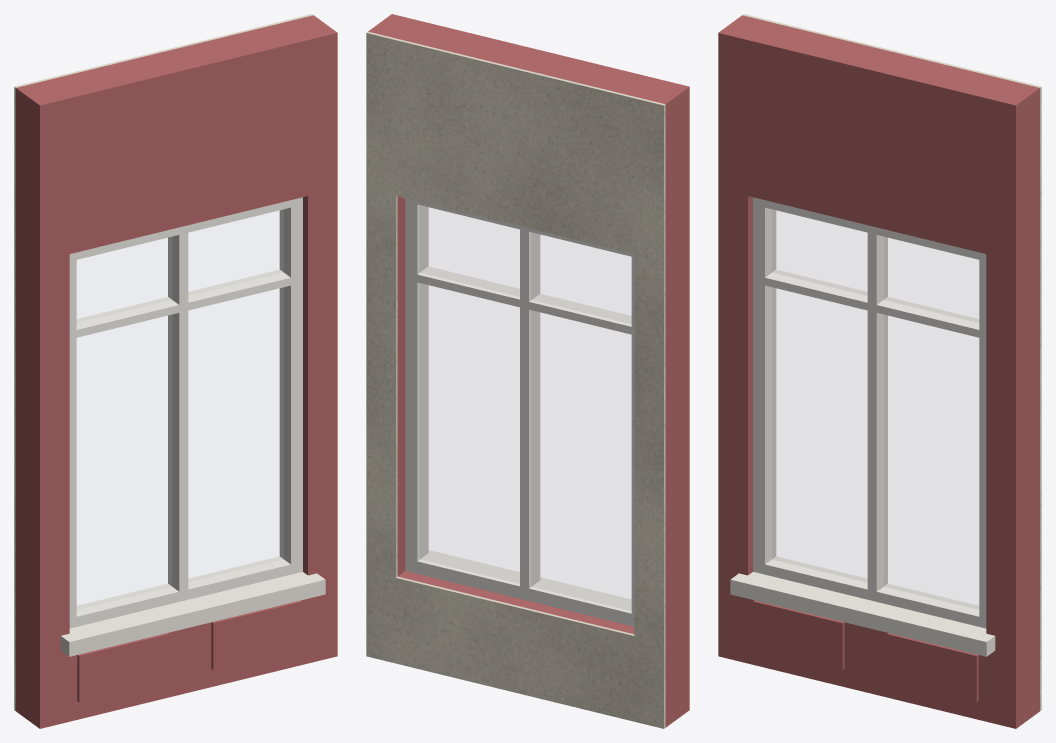
The model's file is shopfront_window.glb.
3 renders of one model, left to right at view 1: azimuth 30°, elevation 25°; view 2: azimuth 150°, elevation 25°; view 3: azimuth 330°, elevation 25°, orthographic.
Visible parts, largest first — view 1: shopfront_window_shop_paint, folha_glass, shopfront_window_frame, shopfront_window_trim, shopfront_window_plaster; view 2: shopfront_window_plaster, folha_glass, shopfront_window_shop_paint, shopfront_window_frame, shopfront_window_trim; view 3: shopfront_window_shop_paint, folha_glass, shopfront_window_frame, shopfront_window_trim, shopfront_window_plaster.
Boxes of the visible parts, x1,y1,x2,y2 form: shopfront_window_shop_paint: (16,15,337,728); folha_glass: (77,210,283,608); shopfront_window_frame: (69,197,302,628); shopfront_window_trim: (60,572,325,656); shopfront_window_plaster: (14,14,313,710); shopfront_window_plaster: (366,31,665,728); folha_glass: (420,206,630,609); shopfront_window_shop_paint: (368,14,689,727); shopfront_window_frame: (405,198,634,626); shopfront_window_trim: (428,550,631,602); shopfront_window_shop_paint: (718,15,1039,728); folha_glass: (772,210,978,608); shopfront_window_frame: (753,197,986,628); shopfront_window_trim: (730,572,995,656); shopfront_window_plaster: (742,14,1041,710).
Bounding box in the file's own units: 2 × 4 × 0.4.
5 materials, 1 textured.
